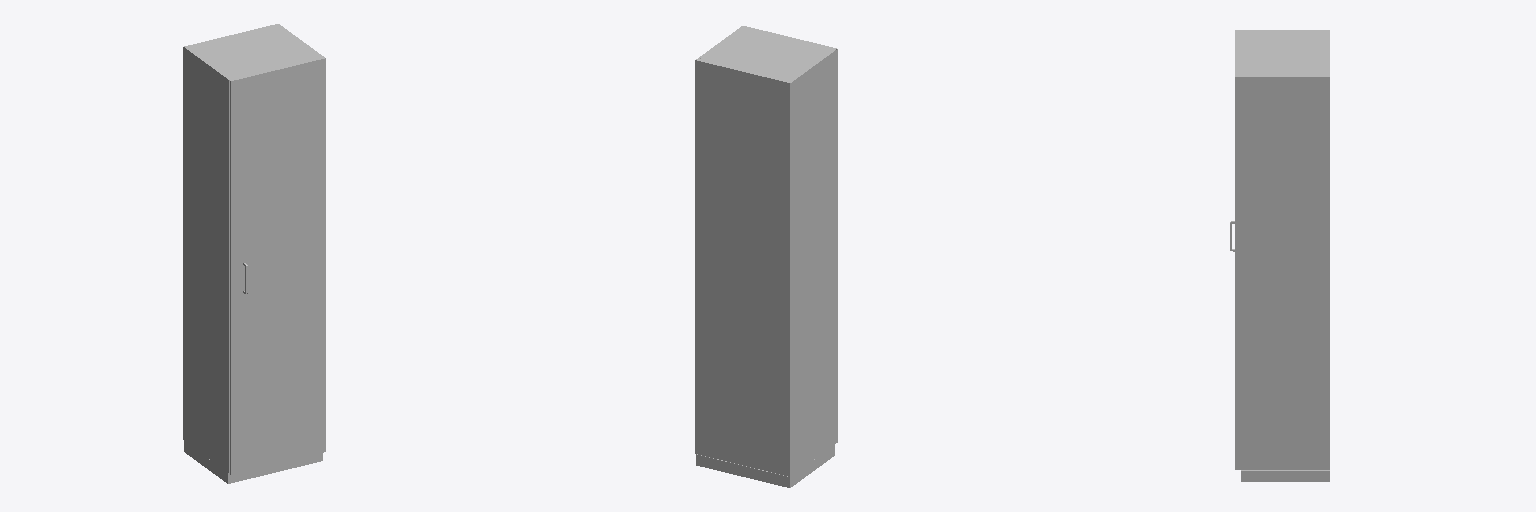
Rendered from oscar.obj.
The picture shows the model from 3 angles: view 1: azimuth 30°, elevation 25°; view 2: azimuth 150°, elevation 25°; view 3: azimuth 270°, elevation 25°; orthographic projection.
Visible parts, largest first — view 1: Куб.004; view 2: Куб.004; view 3: Куб.004.
Boxes of the visible parts, <box> form: Куб.004: <box>183,24,325,483</box>; Куб.004: <box>695,26,837,487</box>; Куб.004: <box>1235,30,1329,481</box>.
Bounding box in the file's own units: 1.19 × 4.86 × 1.09.